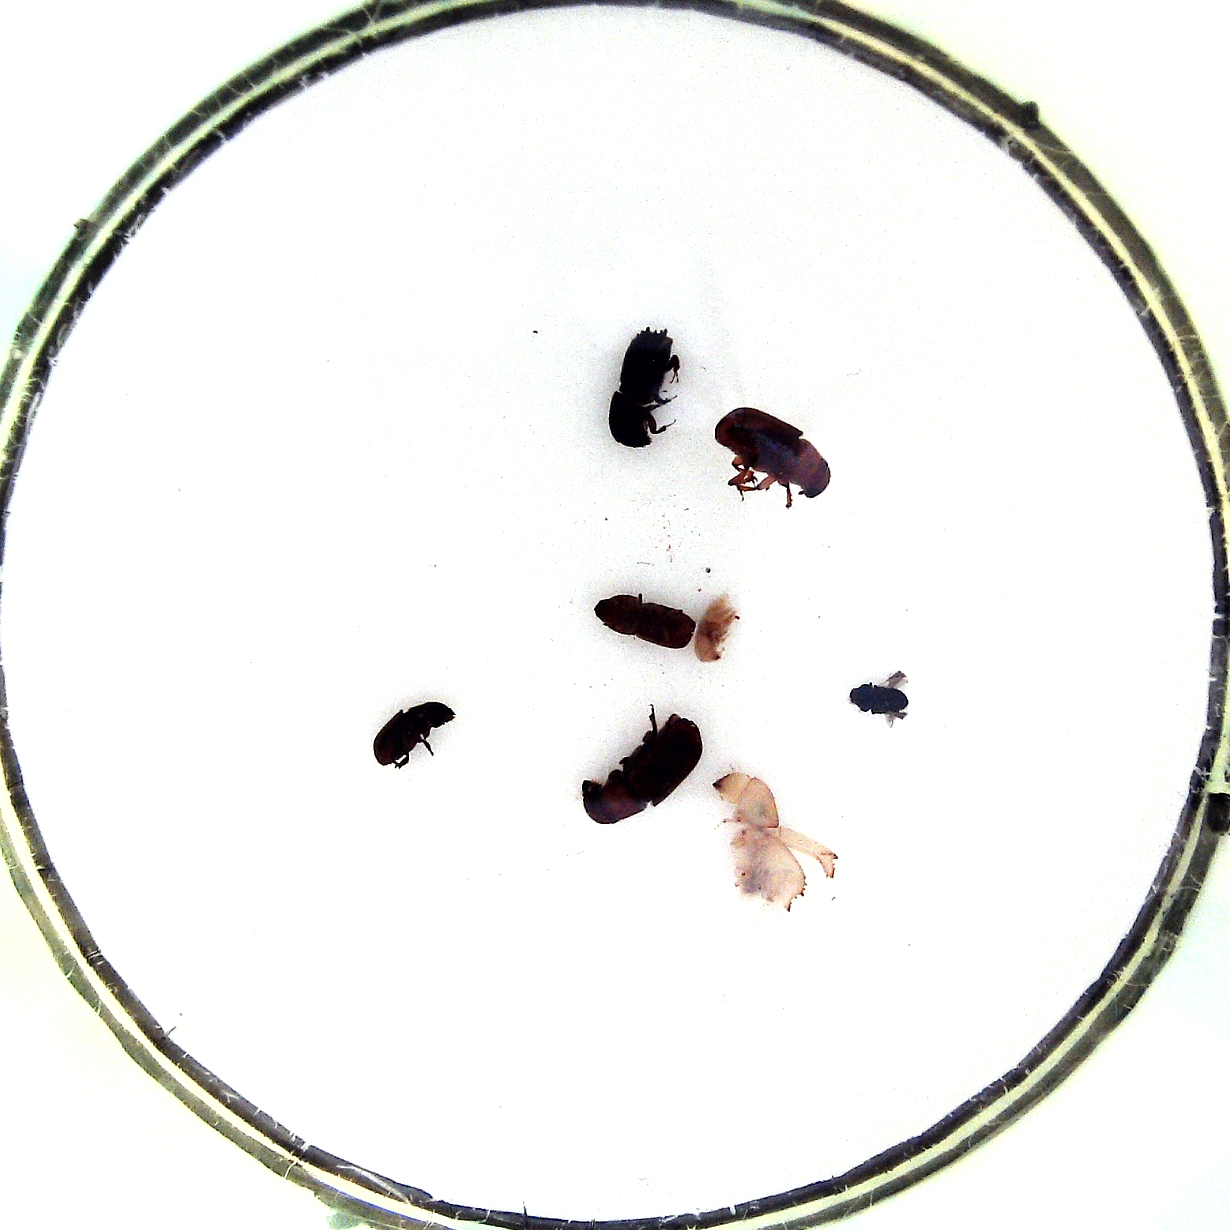Boerner: (713, 765, 843, 911), (601, 320, 690, 454)
Leconte: (577, 708, 706, 829), (710, 408, 834, 510)
Linnaeus: (587, 590, 697, 647)
acuminatus: (693, 592, 738, 669)
armandi: (369, 697, 457, 774)
coleoptera: (849, 670, 915, 733)
